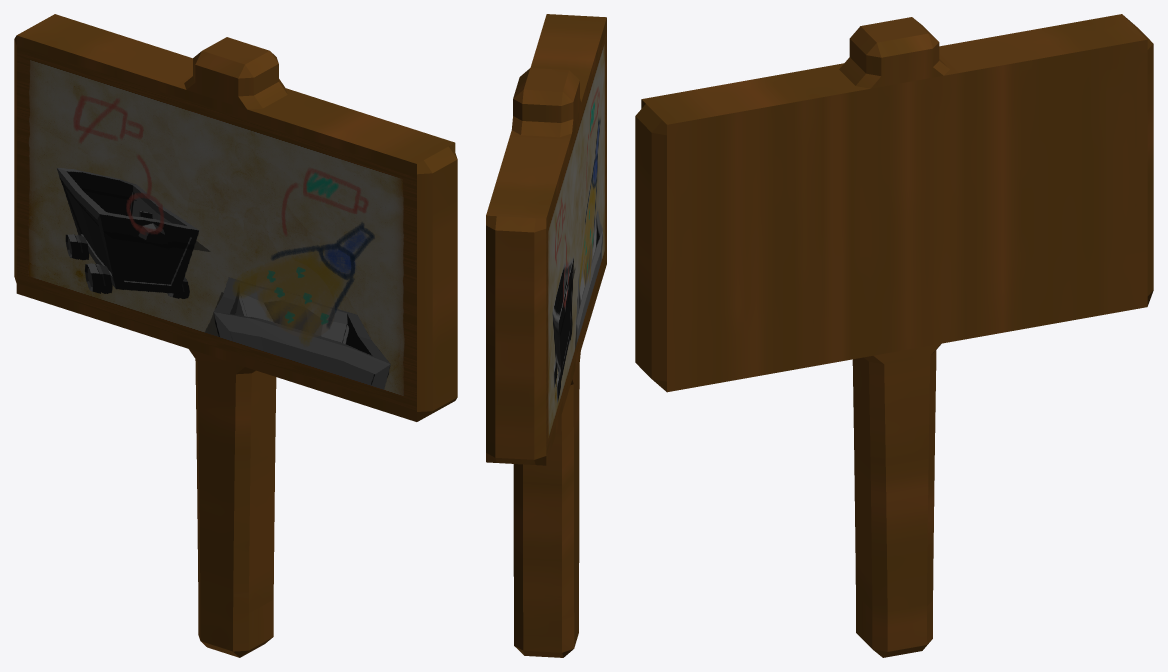
File: SignTrolley.gltf
3 views of the same model, side by side, from view 1: azimuth 30°, elevation 25°; view 2: azimuth 150°, elevation 25°; view 3: azimuth 270°, elevation 25° (orthographic). The views are drawn at different scales.
Parts seen in each view (by area): view 1: signBoard.001; view 2: signBoard.001; view 3: signBoard.001.
Part boxes in pixels (bbox=[...]): signBoard.001: bbox=[14, 14, 457, 657]; signBoard.001: bbox=[486, 14, 606, 657]; signBoard.001: bbox=[635, 14, 1153, 657].
Bounding box in the file's own units: 2.83 × 7.34 × 5.59.
1 material, 1 textured.
